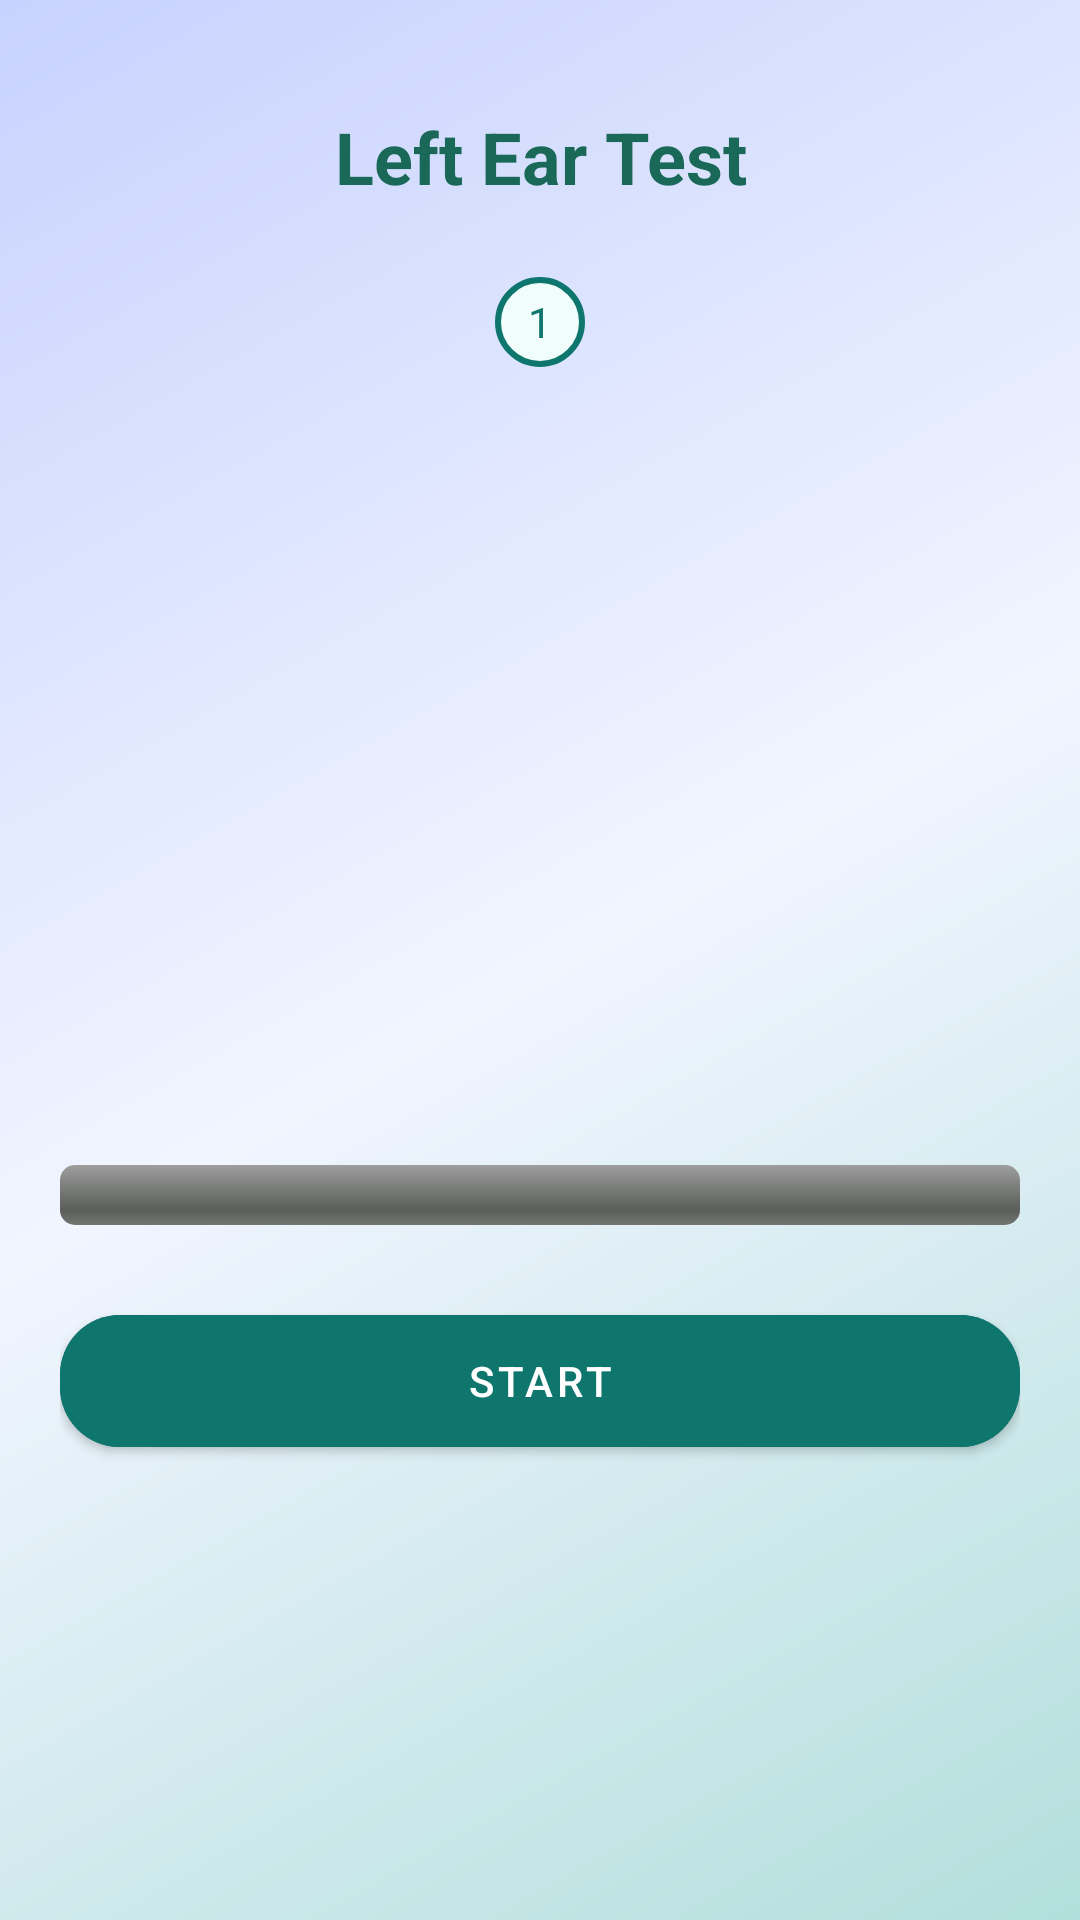

Where icons sit on this 1080*1920 app screen, as (x1, y1, x2, y2):
circle: (495, 277, 585, 367)
